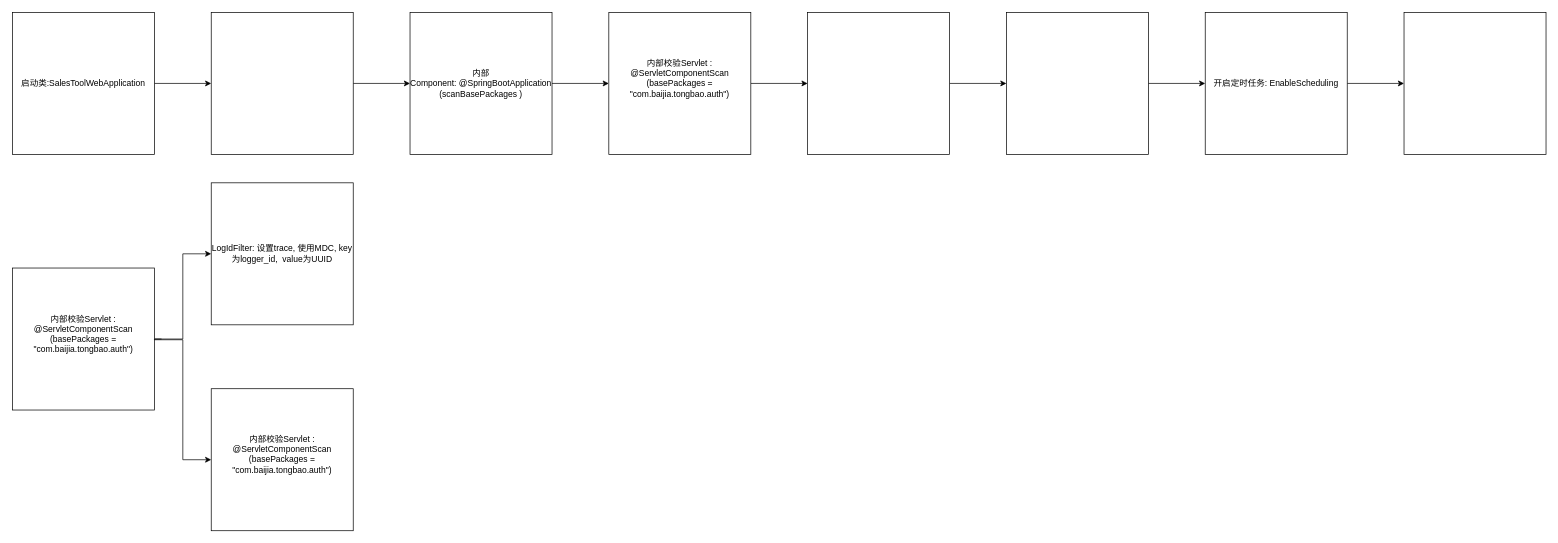
The diagram is 1558 pixels wide and 543 high, and some of its shapes have lost their labels. The box of each missing label's shape, as (x1, y1, x2, y2) in pixels:
apollo: EnableApolloConfig: (807, 12, 950, 154)
cloud的eureka: EnableEurekaClient: (1006, 12, 1148, 154)
外部feign: EnableFeignClients: (211, 12, 353, 154)
开启异步: EnableAsync: (1403, 12, 1546, 154)
